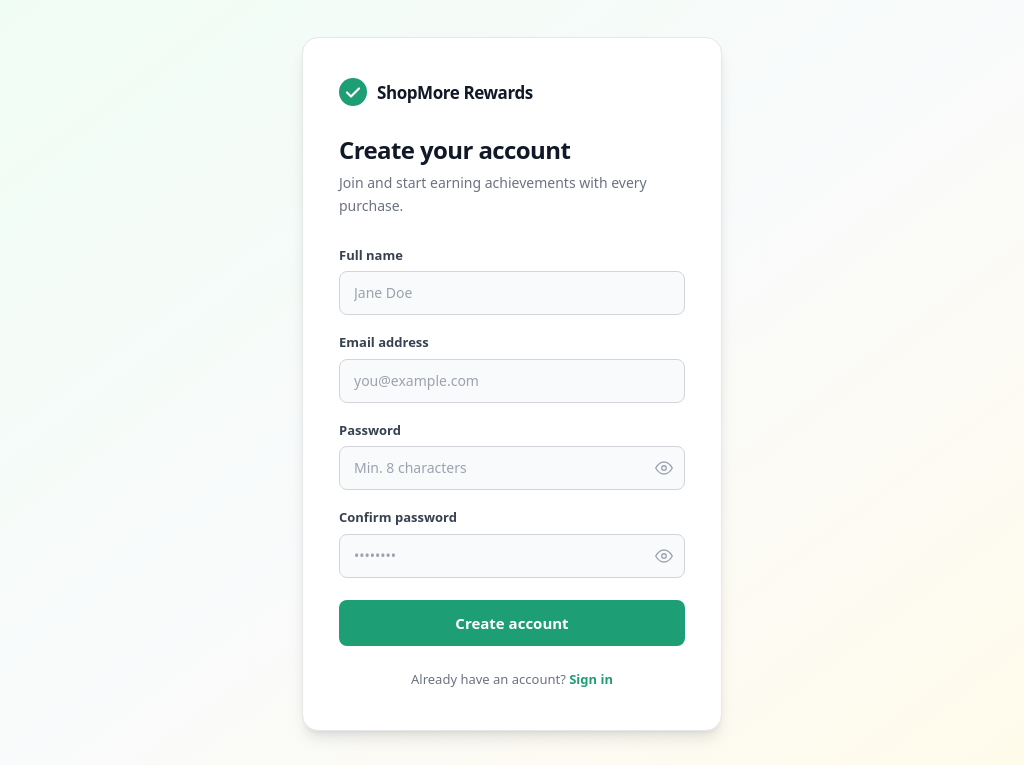
it: RegisterPage › blocks submission when passwords do not match
The image size is (1024, 765).
Type "Test User" into the field labelled "Full name" at (512, 293), box [339, 271, 685, 315]
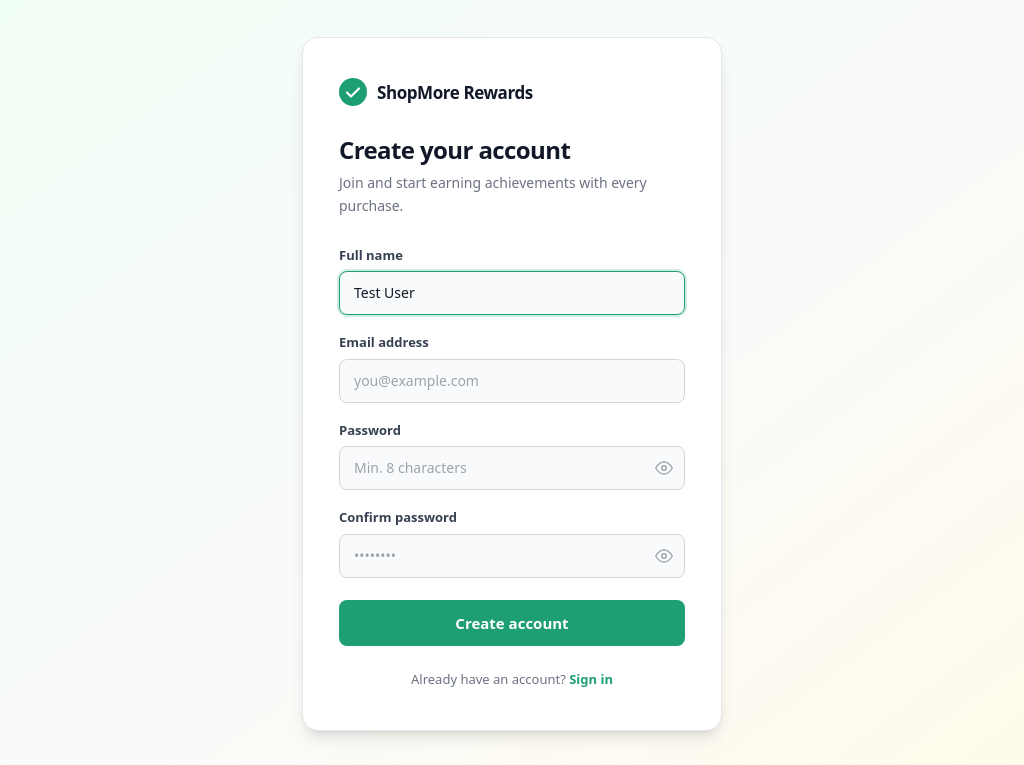
Type "test@example.com" into the field labelled "Email address" at (512, 381), box [339, 359, 685, 403]
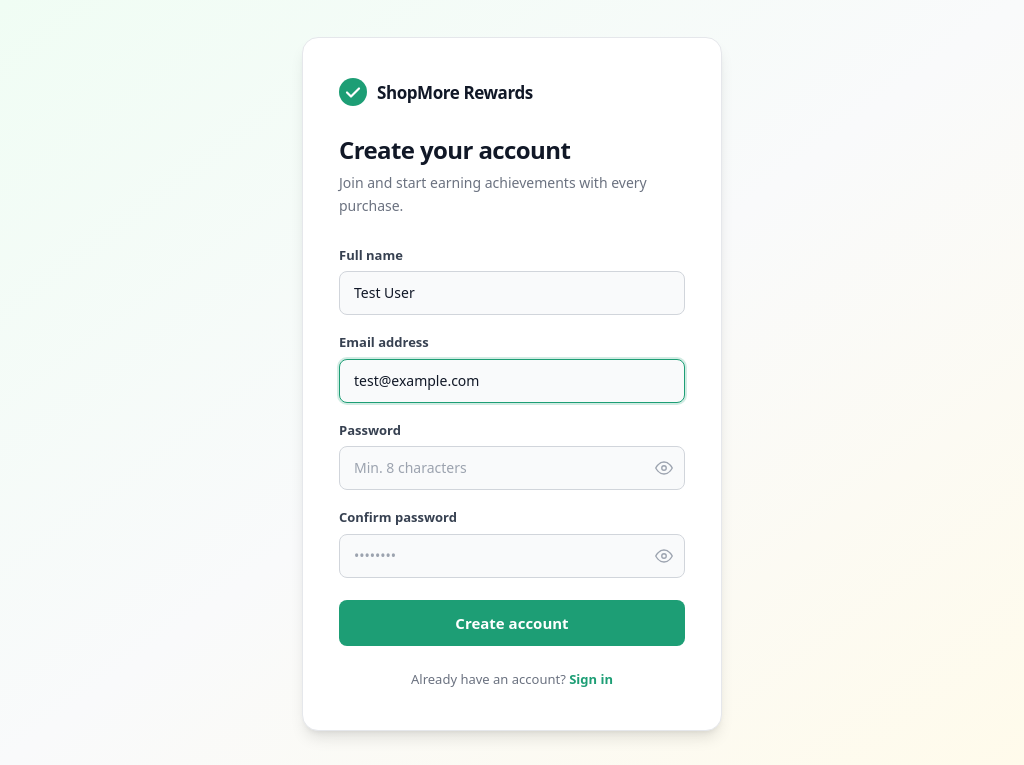
Type "StrongPass1!" into the password field labelled "Password" at (512, 468), box [339, 446, 685, 490]
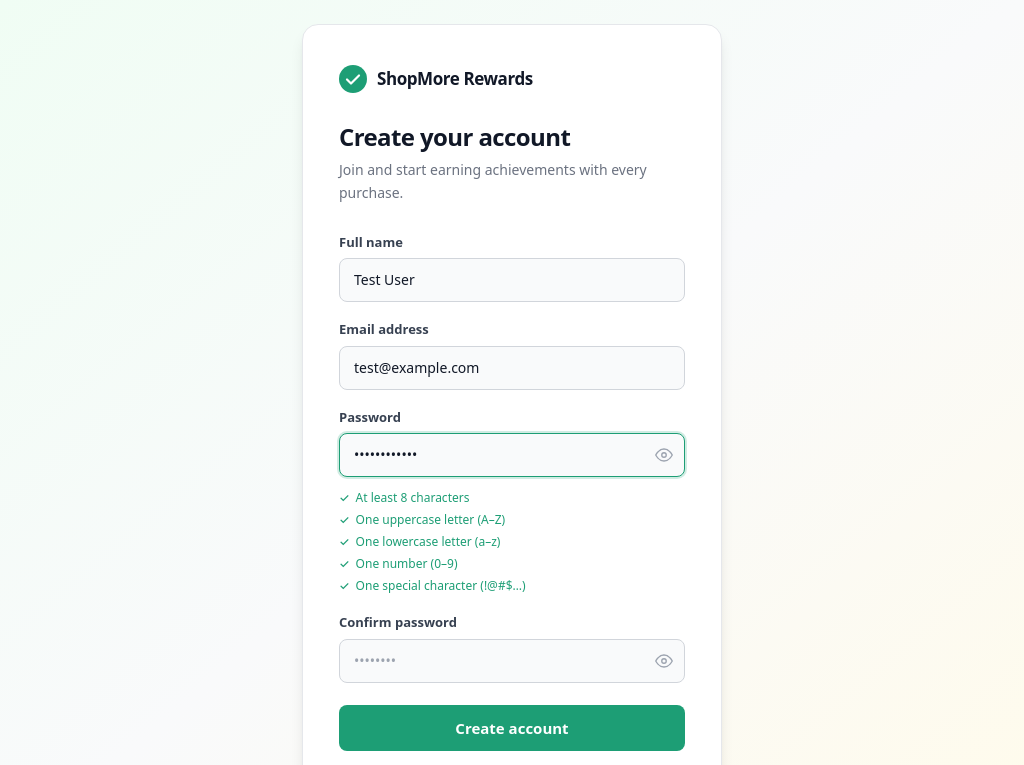
Type "Different1!" into the password field labelled "Confirm password" at (512, 660), box [339, 638, 685, 682]
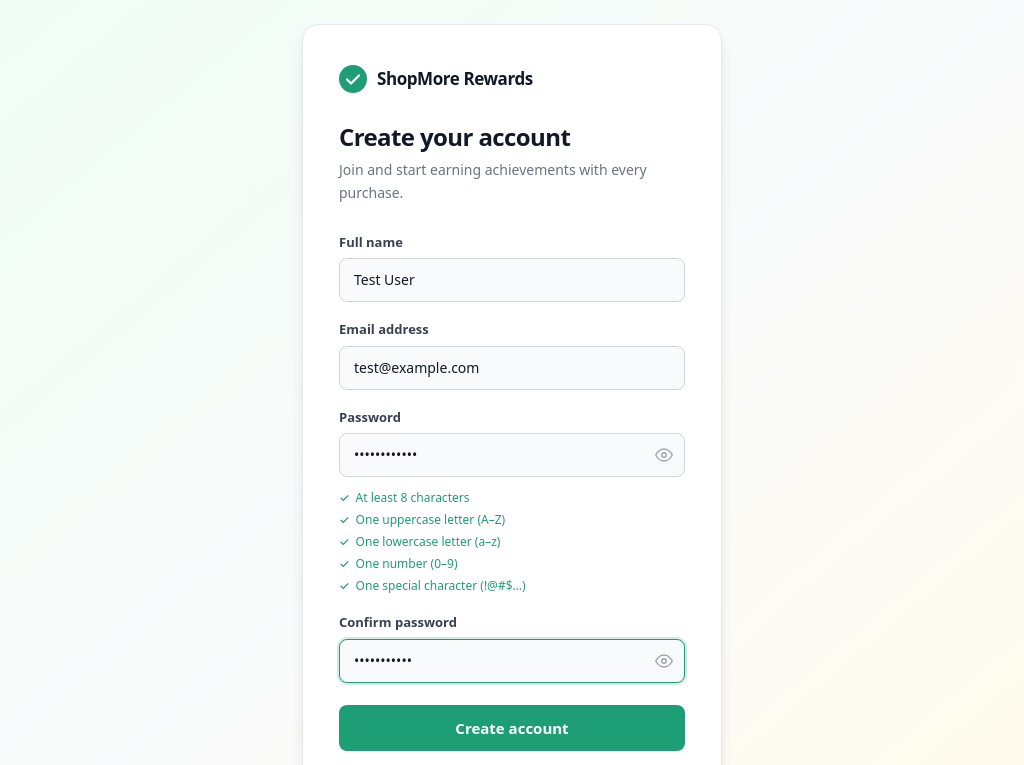
Click the button "Create account" at (512, 728), box [339, 704, 685, 751]
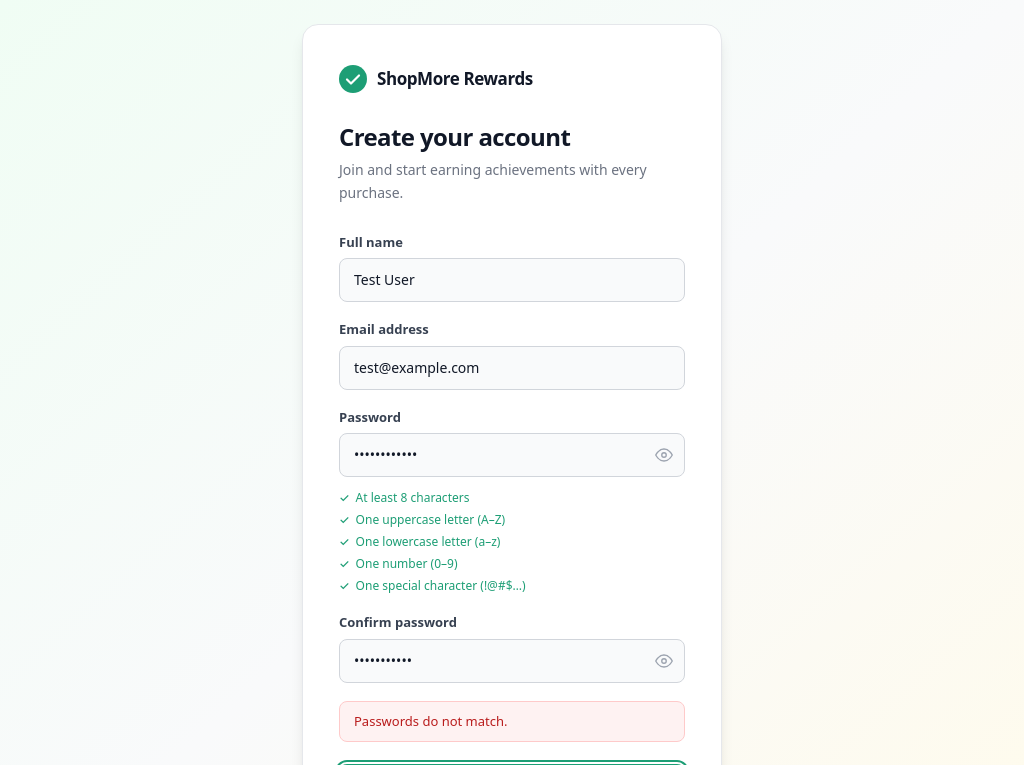
Expected: the message shows "Passwords do not match", [354, 712, 508, 730]
